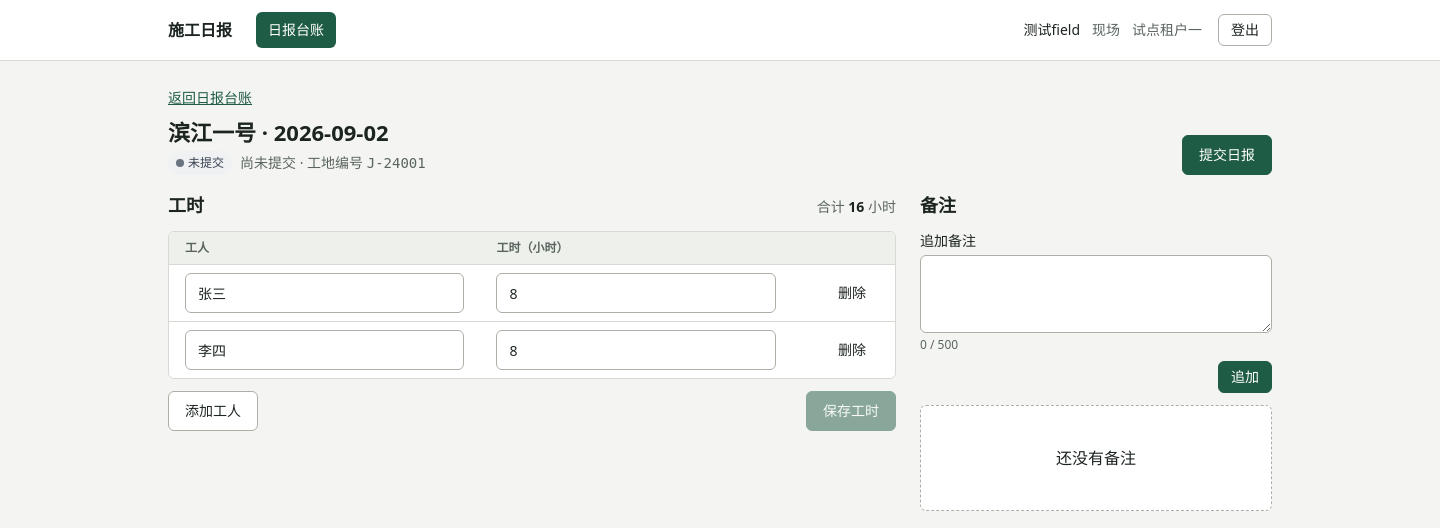
Test case: ReportDetailPage › appends a note and checks its length
Click the button "追加": [1245, 377] box [1218,361,1272,393]
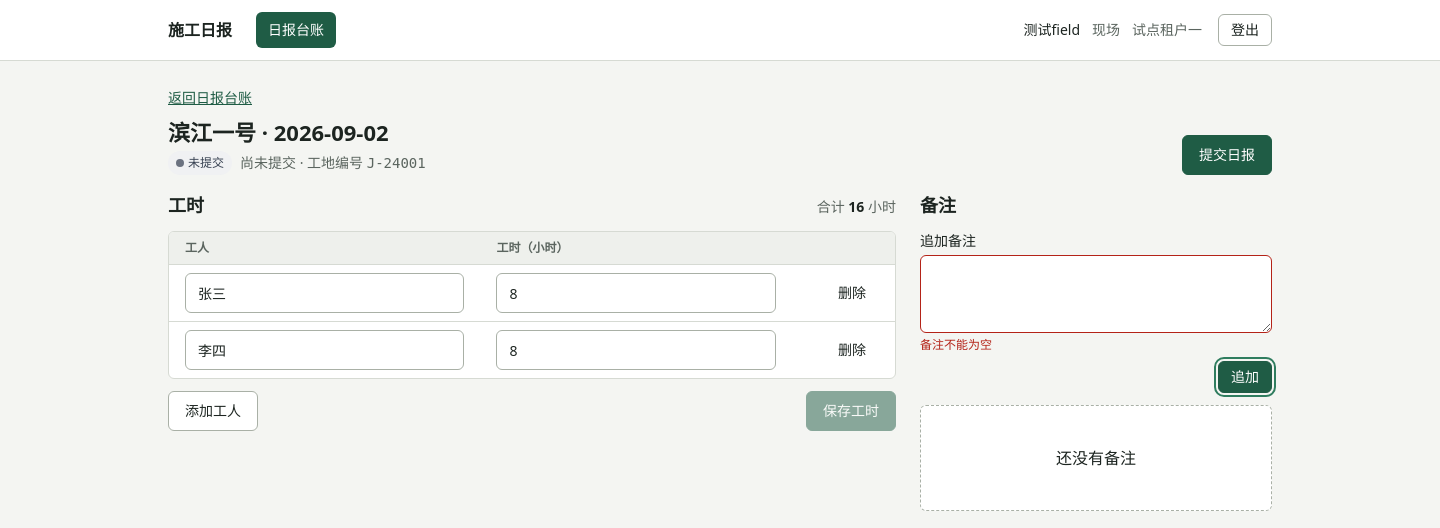
Check: the text "备注不能为空" is shown, box [920,336,992,353]
In the text box labelled "追加备注": [1096, 294] box [920,255,1272,333], type "下午下雨，停工两小时"
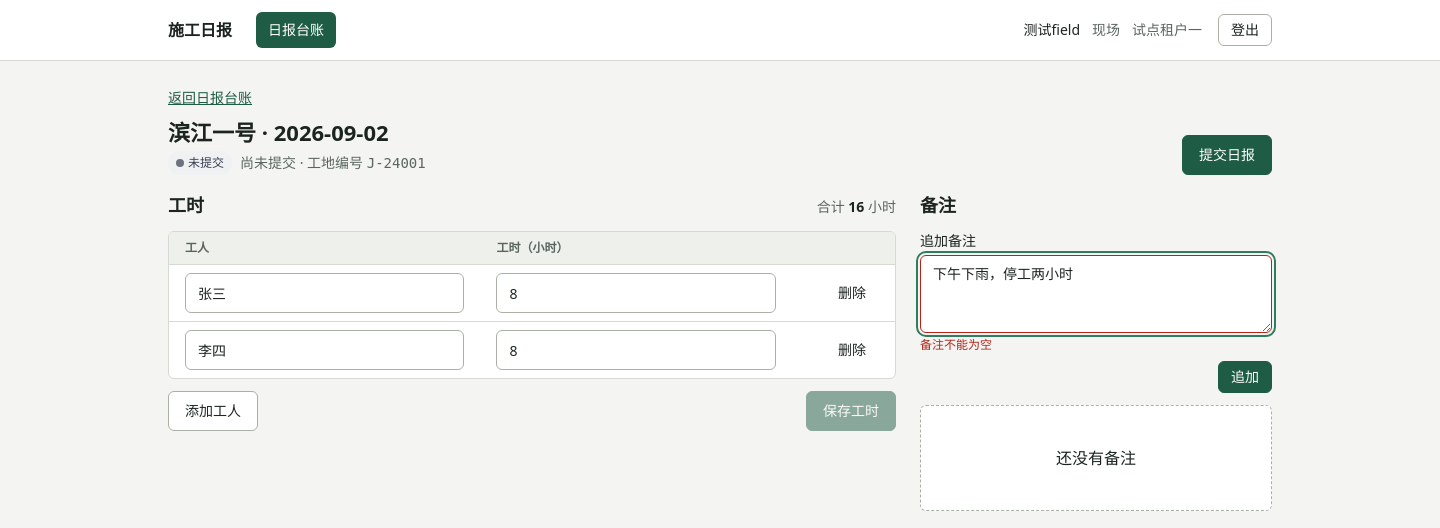
Click the button "追加": [1245, 377] box [1218,361,1272,393]
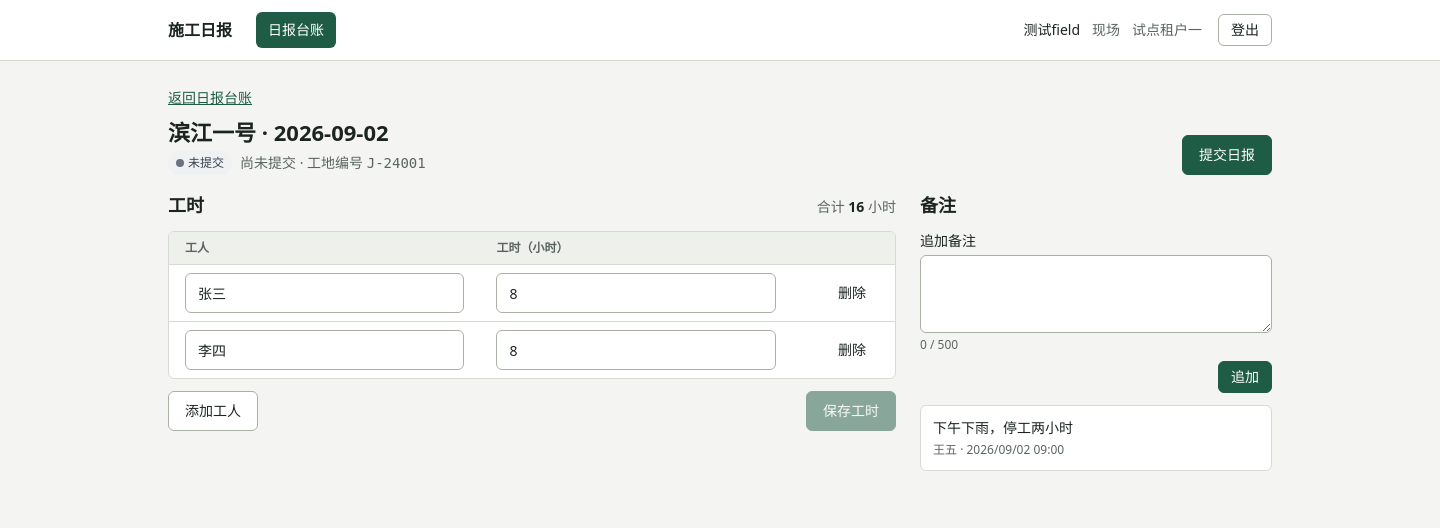
Check: the text "下午下雨，停工两小时" is shown, box [933,418,1073,437]
Check: the text box labelled "追加备注" is empty, box [920,255,1272,333]
